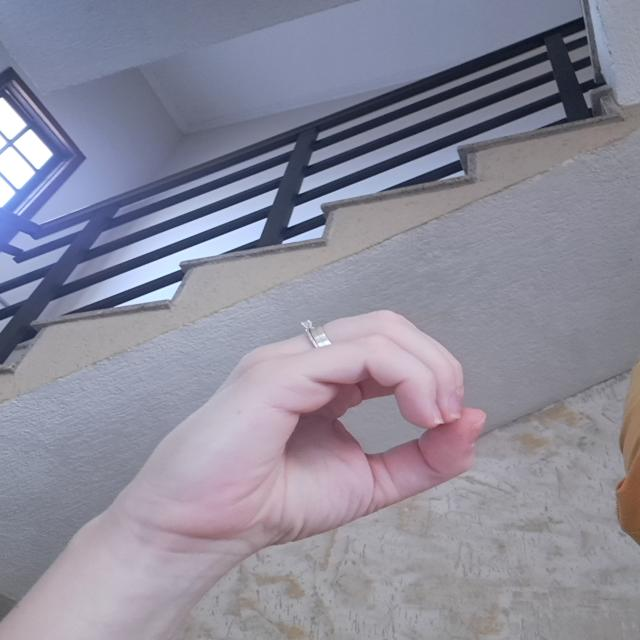O: (138, 294, 500, 553)
